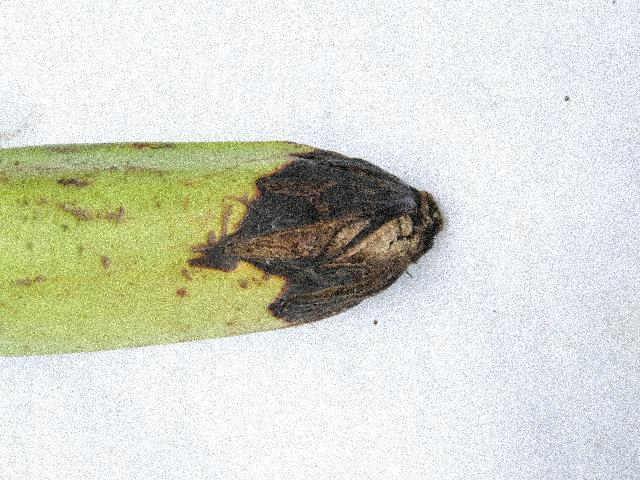rotten: (173, 133, 470, 341)
unripe: (0, 119, 244, 385)
